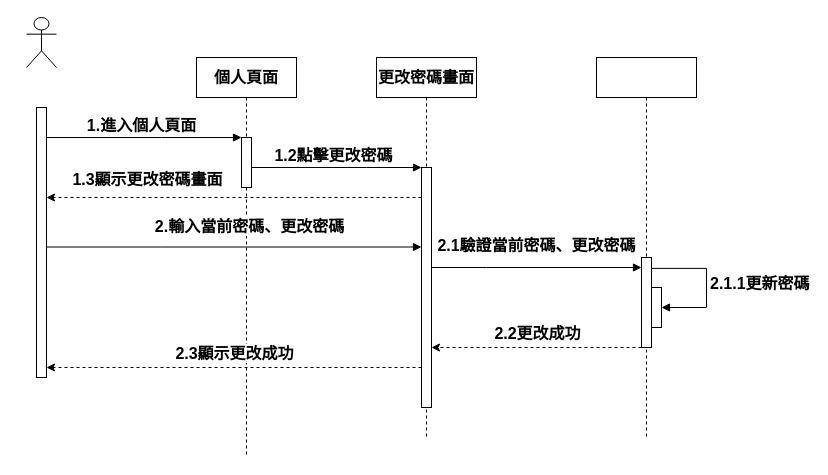
Image size: 828x475. Some labels were removed from this diagram. The box of each missing label's shape, as (x1, y1, x2, y2) in pixels:
消費者: (26, 16, 56, 68)
資料庫: (596, 56, 696, 438)
